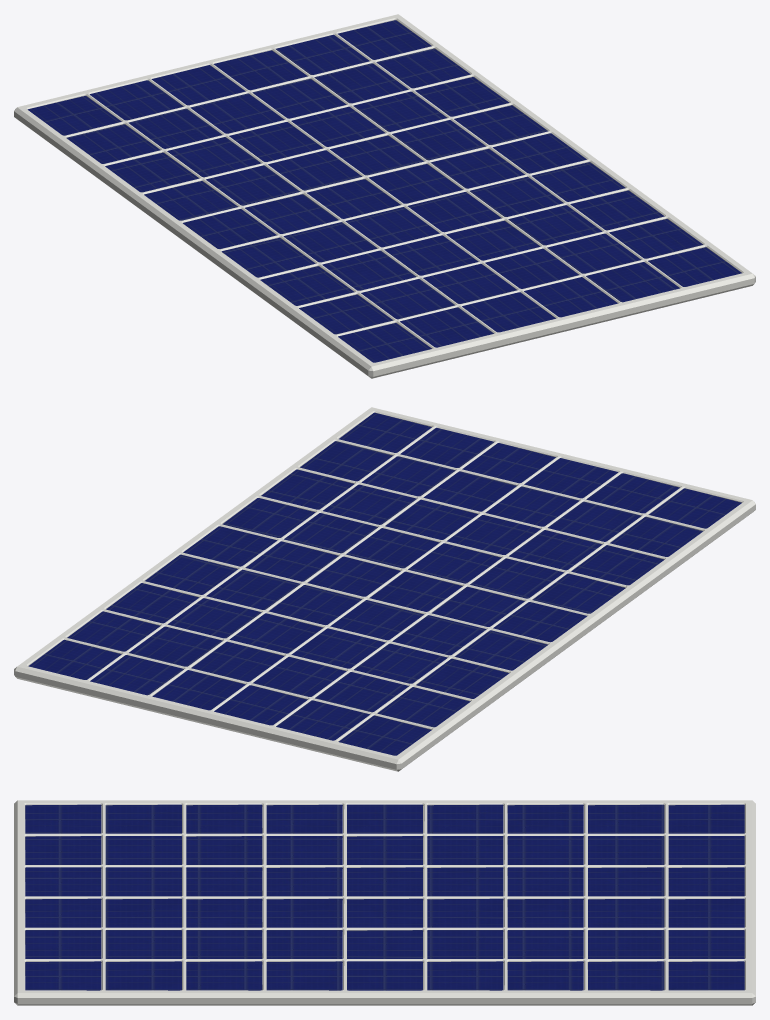
The model's file is ax_power_04_conformal_solar_l.glb.
3 renders of one model, top to bottom at view 1: azimuth 30°, elevation 25°; view 2: azimuth 150°, elevation 25°; view 3: azimuth 270°, elevation 25°, orthographic. The views are drawn at different scales.
Parts seen in each view (by area): view 1: solar_cells, skin_panel; view 2: solar_cells, skin_panel; view 3: solar_cells, skin_panel.
Boxes of the visible parts, x1,y1,x2,y2 form: solar_cells: [27, 20, 741, 362]; skin_panel: [14, 14, 755, 378]; solar_cells: [28, 412, 741, 755]; skin_panel: [14, 407, 755, 771]; solar_cells: [25, 804, 744, 990]; skin_panel: [14, 800, 755, 1005].
Size of the model in its own units: 1.5 by 0.045 by 2.4.
Materials: 2 (1 with a texture image).
